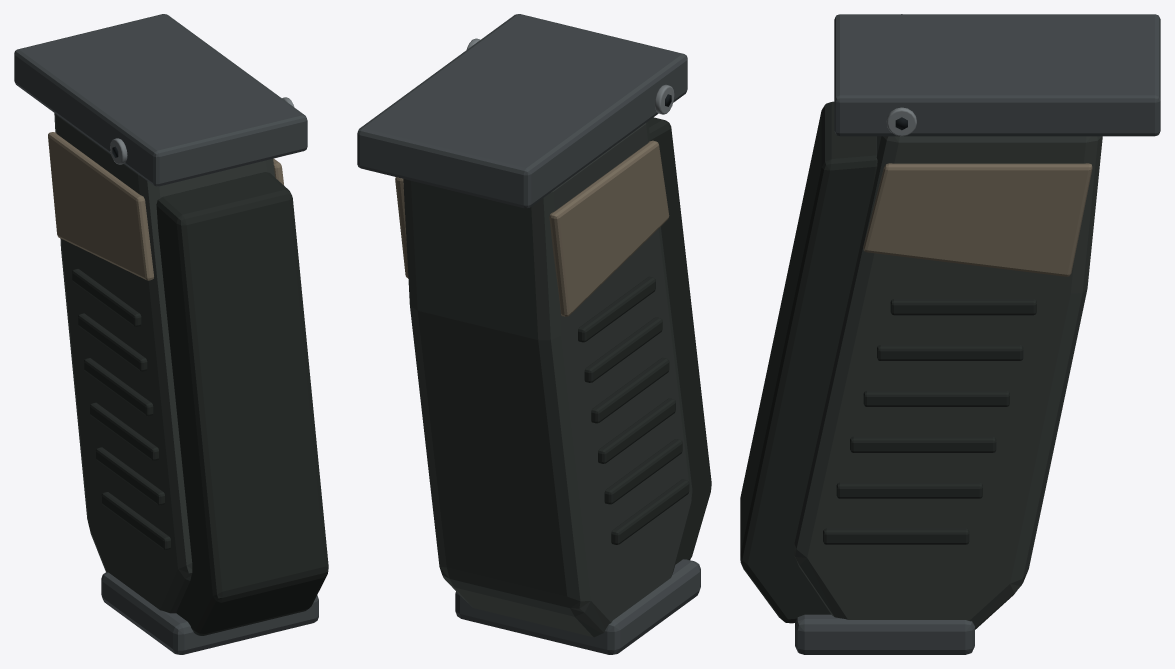
Rendered from foregrip.glb.
3 views of the same model, side by side, from view 1: azimuth 30°, elevation 25°; view 2: azimuth 150°, elevation 25°; view 3: azimuth 270°, elevation 25° (orthographic). The views are drawn at different scales.
Parts seen in each view (by area): view 1: foregrip_rubber, foregrip_metal, foregrip_Swept_palm_core, foregrip_bronze; view 2: foregrip_Swept_palm_core, foregrip_metal, foregrip_rubber, foregrip_bronze; view 3: foregrip_Swept_palm_core, foregrip_rubber, foregrip_metal, foregrip_bronze, foregrip_steel.
Boxes of the visible parts, left/top/right/bottom form: foregrip_rubber: left=72, top=172, right=328, bottom=635; foregrip_metal: left=14, top=14, right=318, bottom=654; foregrip_Swept_palm_core: left=54, top=113, right=274, bottom=613; foregrip_bronze: left=48, top=132, right=283, bottom=280; foregrip_Swept_palm_core: left=403, top=121, right=692, bottom=637; foregrip_metal: left=357, top=14, right=700, bottom=654; foregrip_rubber: left=578, top=117, right=711, bottom=564; foregrip_bronze: left=395, top=140, right=669, bottom=316; foregrip_Swept_palm_core: left=794, top=136, right=1102, bottom=629; foregrip_rubber: left=740, top=101, right=1036, bottom=623; foregrip_metal: left=795, top=14, right=1160, bottom=654; foregrip_bronze: left=863, top=163, right=1092, bottom=276; foregrip_steel: left=886, top=14, right=916, bottom=136.
Size of the model in its own units: 0.041 by 0.1105 by 0.0747.
